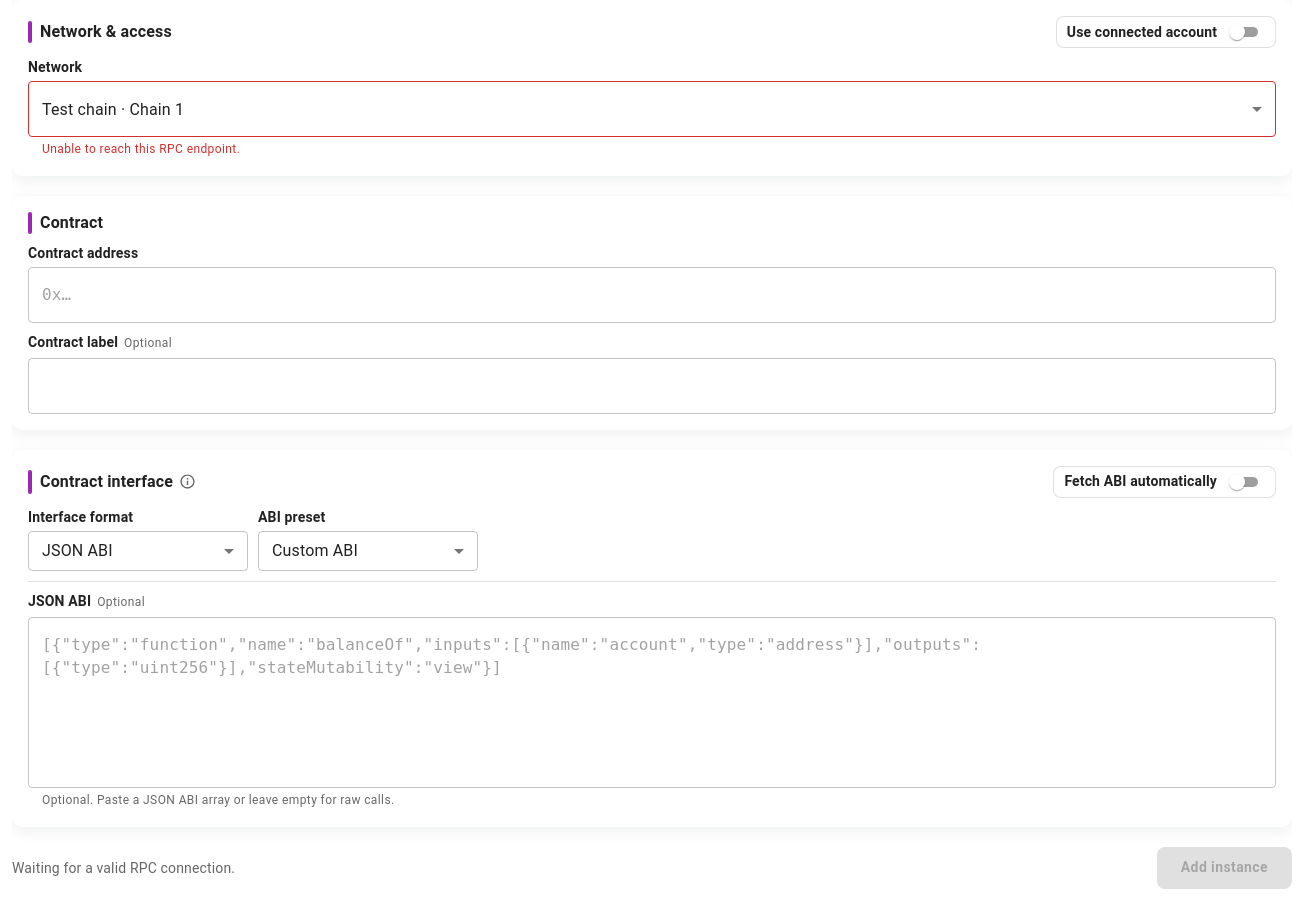
ContractManager › ignores a late ABI response after the address changes
Click the checkbox labelled "Use connected account" at (1166, 32), box [1056, 16, 1276, 48]
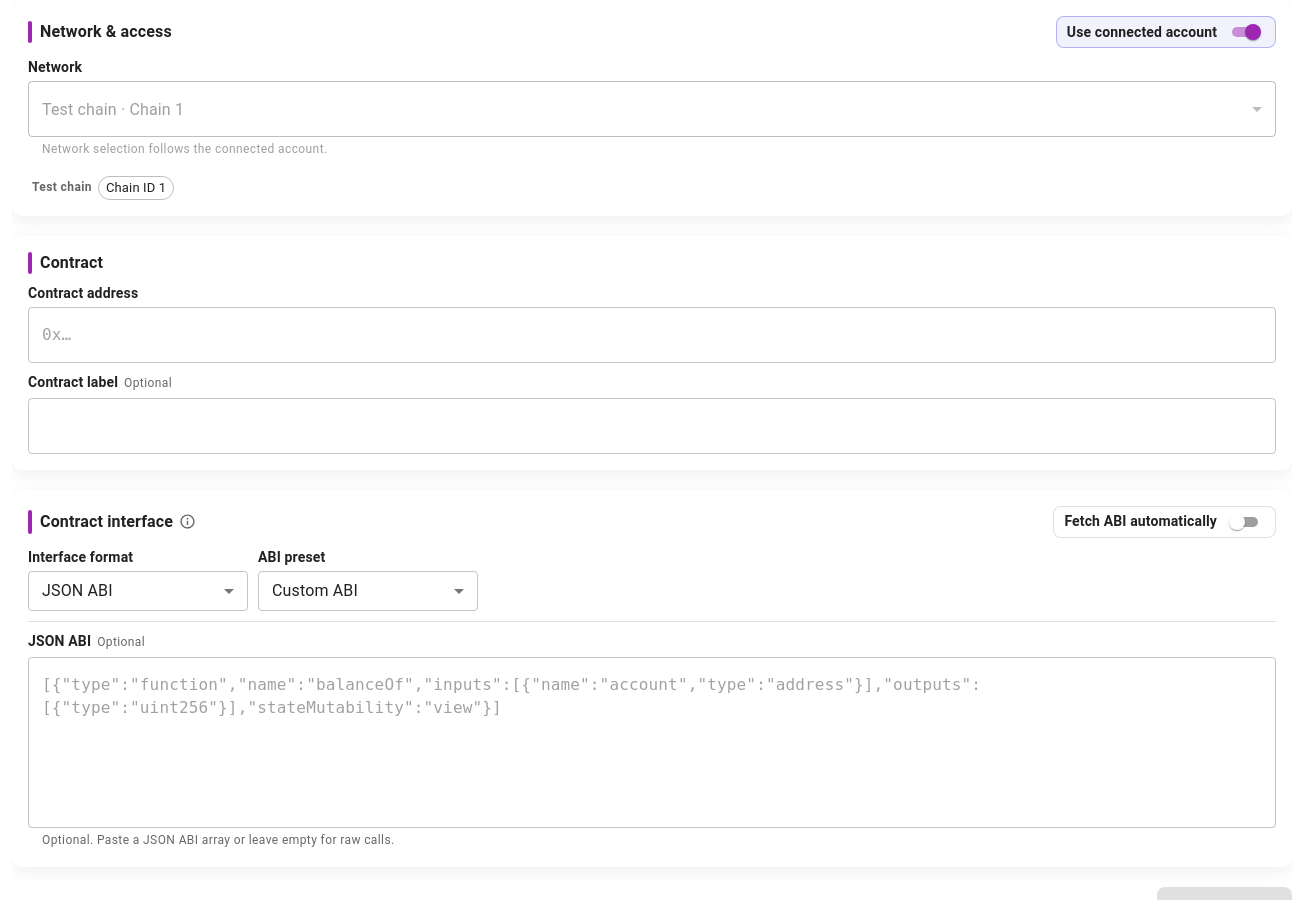
Type "0x0000000000000000000000000000000000000001" into the field labelled "Contract address" at (652, 335), box [28, 307, 1276, 363]
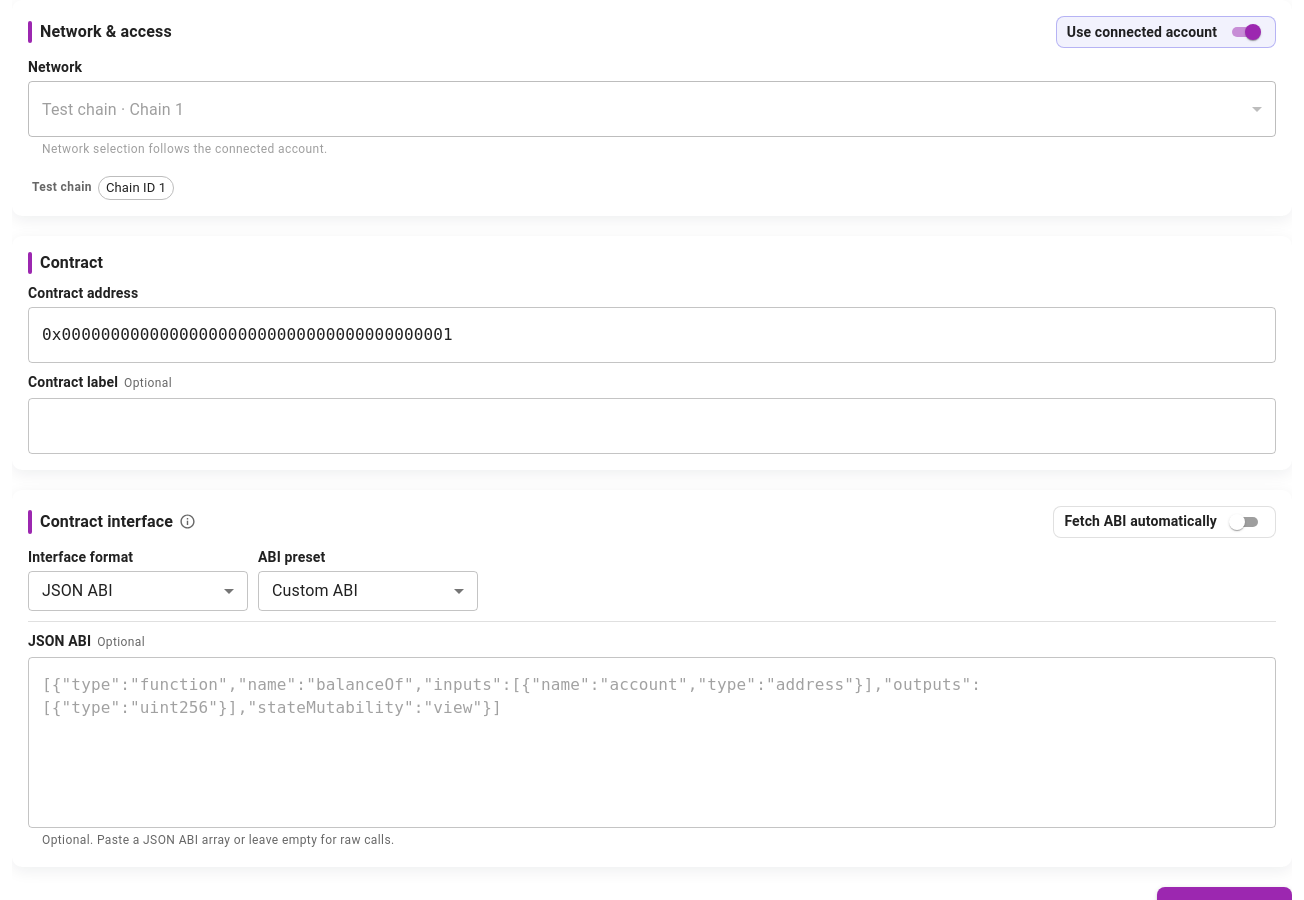
Click the checkbox labelled "Fetch ABI automatically" at (1165, 522), box [1053, 506, 1276, 538]
Wait 500 ms
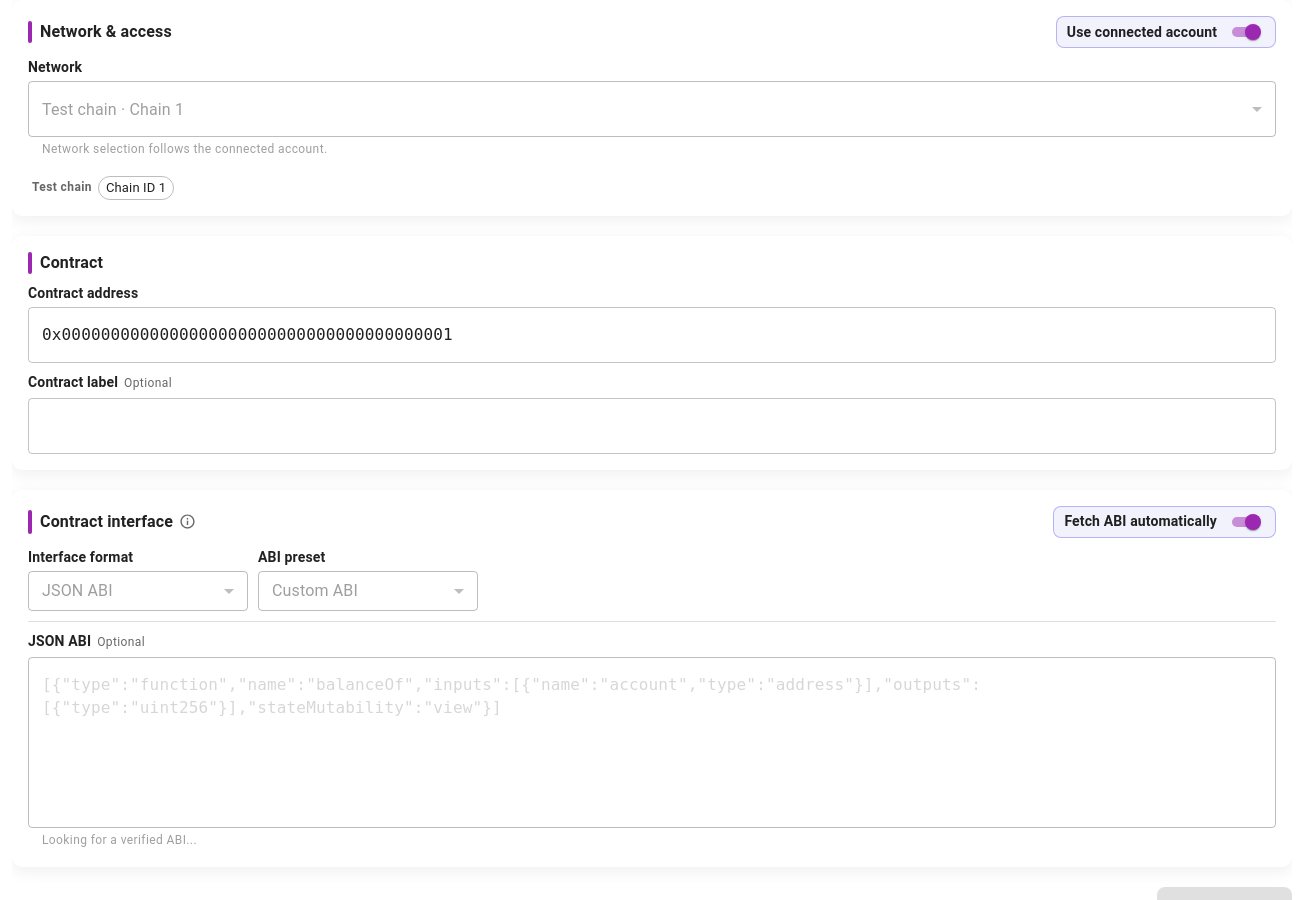
Replace the text in the field labelled "Contract address" with "0x0000000000000000000000000000000000000002" at (652, 335), box [28, 307, 1276, 363]
Wait 500 ms
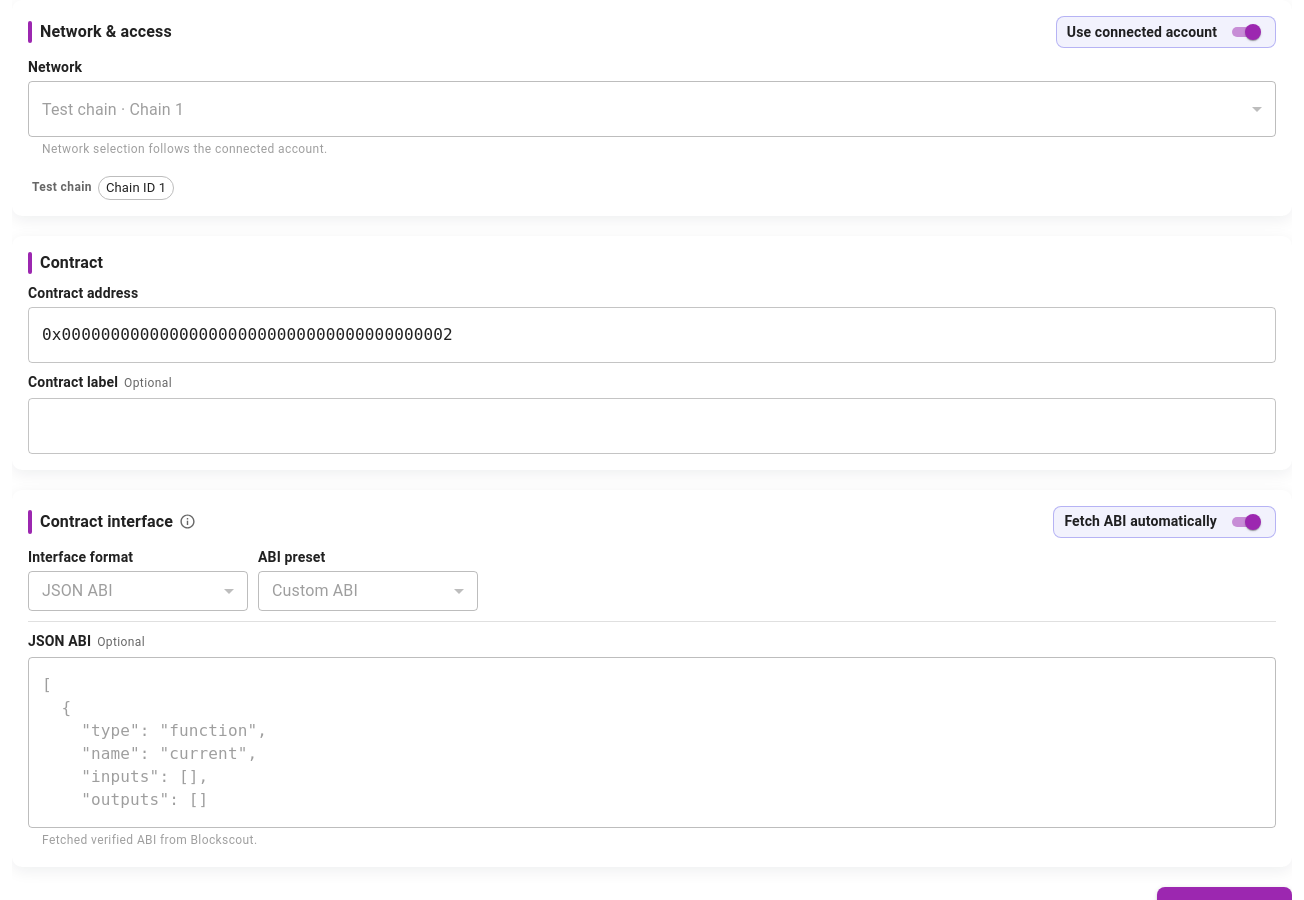
Now the text "Fetched verified ABI from Blockscout." is shown, box [42, 833, 258, 847]
